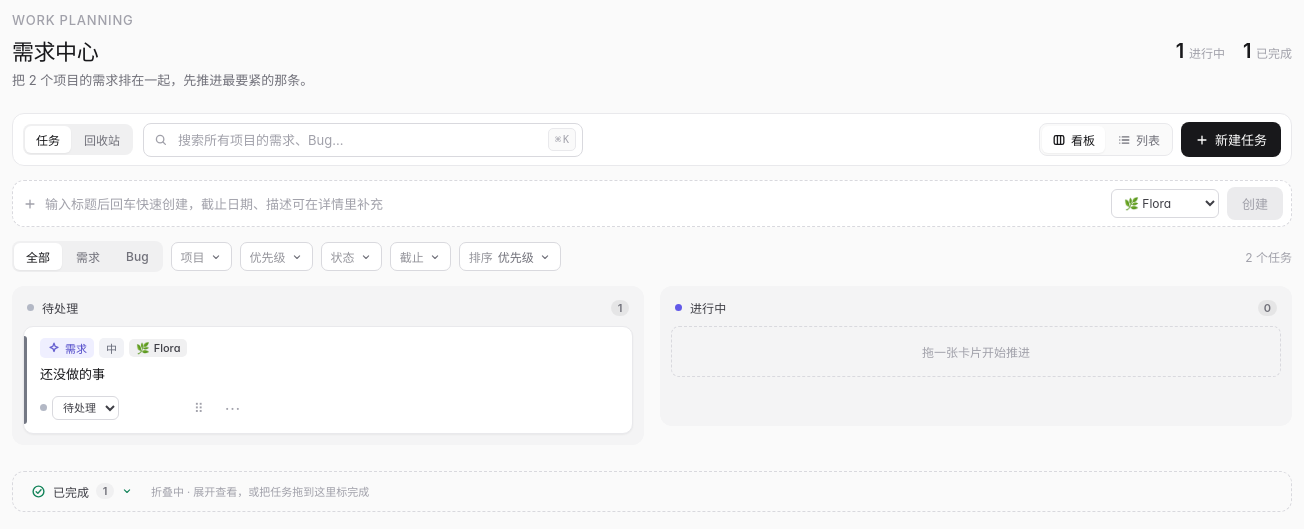
WorkCenter › hides finished tasks from the board but keeps them searchable
Expected: the text "做完的事" is not shown
Expected: the element "已完成 1" is shown, [12,471,1292,512]
In the search field named "搜索任务": {"x": 358, "y": 140} [176,130,540,148], type "做完"
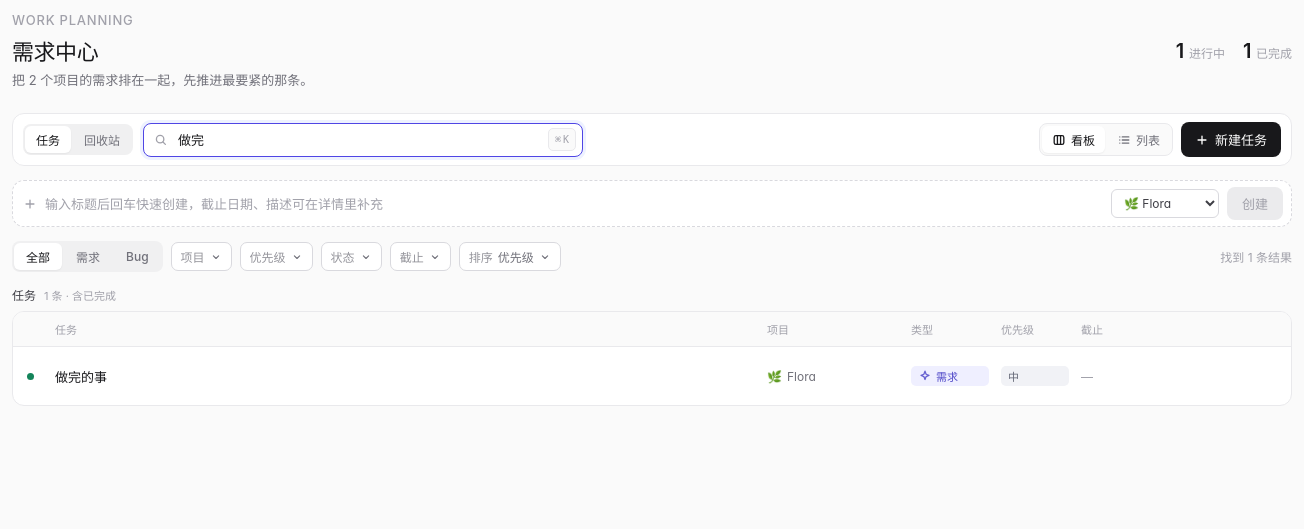
Result: the button "做完的事" is shown at [55,366,755,386]
Result: the button "还没做的事" is gone
